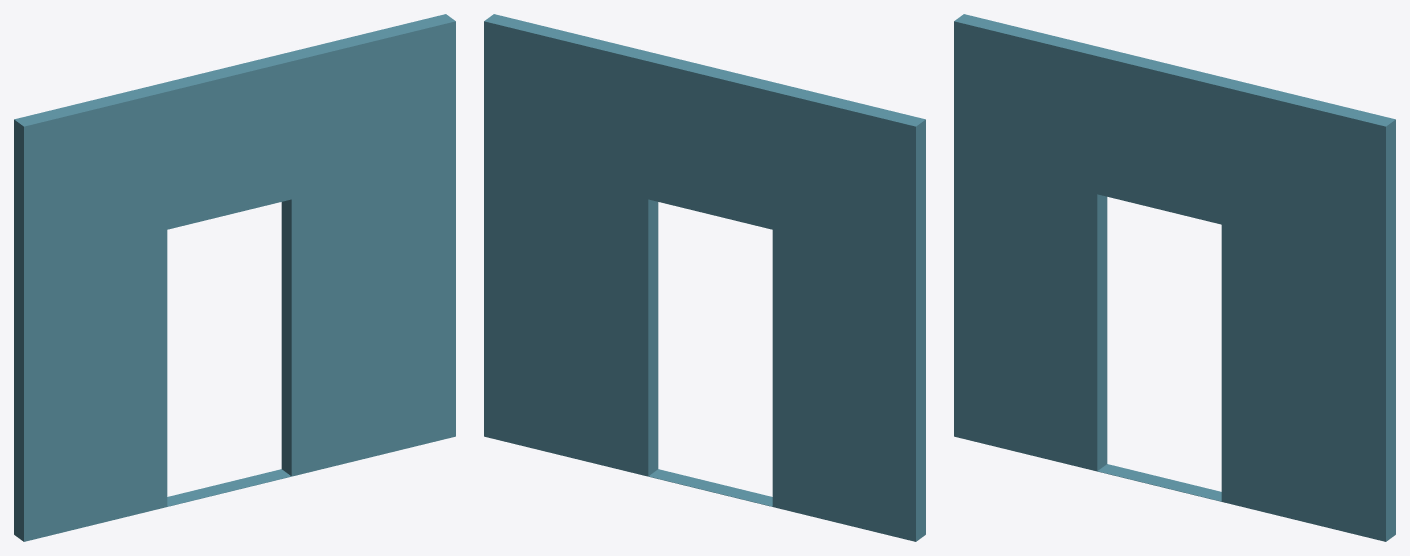
The model's file is duvar2.fbx.
3 views of the same model, side by side, from view 1: azimuth 30°, elevation 25°; view 2: azimuth 150°, elevation 25°; view 3: azimuth 330°, elevation 25° (orthographic).
Visible parts, largest first — view 1: Cube.002; view 2: Cube.002; view 3: Cube.002.
Part boxes in pixels (x1=…): Cube.002: x1=14, y1=14, x2=455, y2=541; Cube.002: x1=484, y1=14, x2=925, y2=541; Cube.002: x1=954, y1=14, x2=1395, y2=541.
Size of the model in its own units: 526 by 483 by 20.97.
